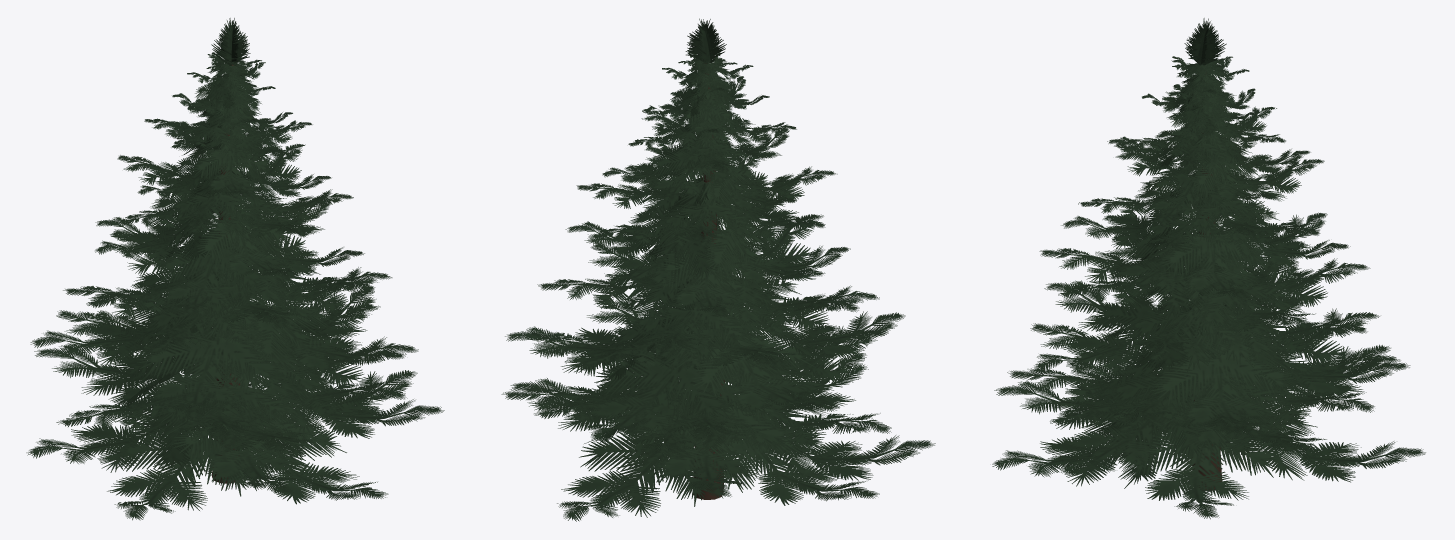
Rendered from pine_tree.glb.
3 renders of one model, left to right at view 1: azimuth 30°, elevation 25°; view 2: azimuth 150°, elevation 25°; view 3: azimuth 270°, elevation 25°, orthographic. The views are drawn at different scales.
Visible parts, largest first — view 1: Branch_04 (×5), Branch_08, Branch_22, Branch_06, Branch_12, Branch_09, Branch_15, Branch_21, Branch_05, Branch_34, Branch_14, Branch_16 (+34 smaller); view 2: Branch_04 (×7), Branch_24, Branch_11, Branch_21, Branch_12, Branch_37, Branch_08, Branch_28, Branch_16, Branch_30, Branch_38, Branch_33 (+29 smaller); view 3: Branch_04 (×6), Branch_23, Branch_10, Branch_22, Branch_05, Branch_11, Branch_36, Branch_24, Branch_26, Branch_09, Branch_20, Branch_07 (+35 smaller).
Part boxes in pixels (<box>): Branch_04 (×5): <box>34,213,392,458</box>; Branch_08: <box>107,427,253,520</box>; Branch_22: <box>247,301,406,373</box>; Branch_06: <box>171,379,324,494</box>; Branch_12: <box>26,395,205,473</box>; Branch_09: <box>227,426,388,504</box>; Branch_15: <box>156,369,295,447</box>; Branch_21: <box>30,301,186,371</box>; Branch_05: <box>278,373,444,438</box>; Branch_34: <box>196,217,299,277</box>; Branch_14: <box>254,368,407,423</box>; Branch_16: <box>56,379,206,440</box>; Branch_04 (×7): <box>588,144,905,498</box>; Branch_24: <box>582,356,731,442</box>; Branch_11: <box>557,431,713,521</box>; Branch_21: <box>691,321,839,413</box>; Branch_12: <box>713,403,879,505</box>; Branch_37: <box>604,220,720,289</box>; Branch_08: <box>767,420,935,482</box>; Branch_28: <box>628,302,754,358</box>; Branch_16: <box>721,383,891,451</box>; Branch_30: <box>725,274,859,329</box>; Branch_38: <box>651,215,762,317</box>; Branch_33: <box>706,222,825,285</box>; Branch_04 (×6): <box>1007,158,1390,426</box>; Branch_23: <box>1149,344,1293,438</box>; Branch_10: <box>1120,421,1282,519</box>; Branch_22: <box>1034,296,1188,379</box>; Branch_05: <box>1054,389,1215,475</box>; Branch_11: <box>1251,413,1425,482</box>; Branch_36: <box>1160,220,1268,299</box>; Branch_24: <box>1239,334,1410,396</box>; Branch_26: <box>1197,282,1315,332</box>; Branch_09: <box>992,414,1163,488</box>; Branch_20: <box>1104,369,1236,433</box>; Branch_07: <box>1188,397,1326,458</box>.
Size of the model in its own units: 0.7116 by 0.7927 by 0.7059.
Materials: 2 (1 with a texture image).
